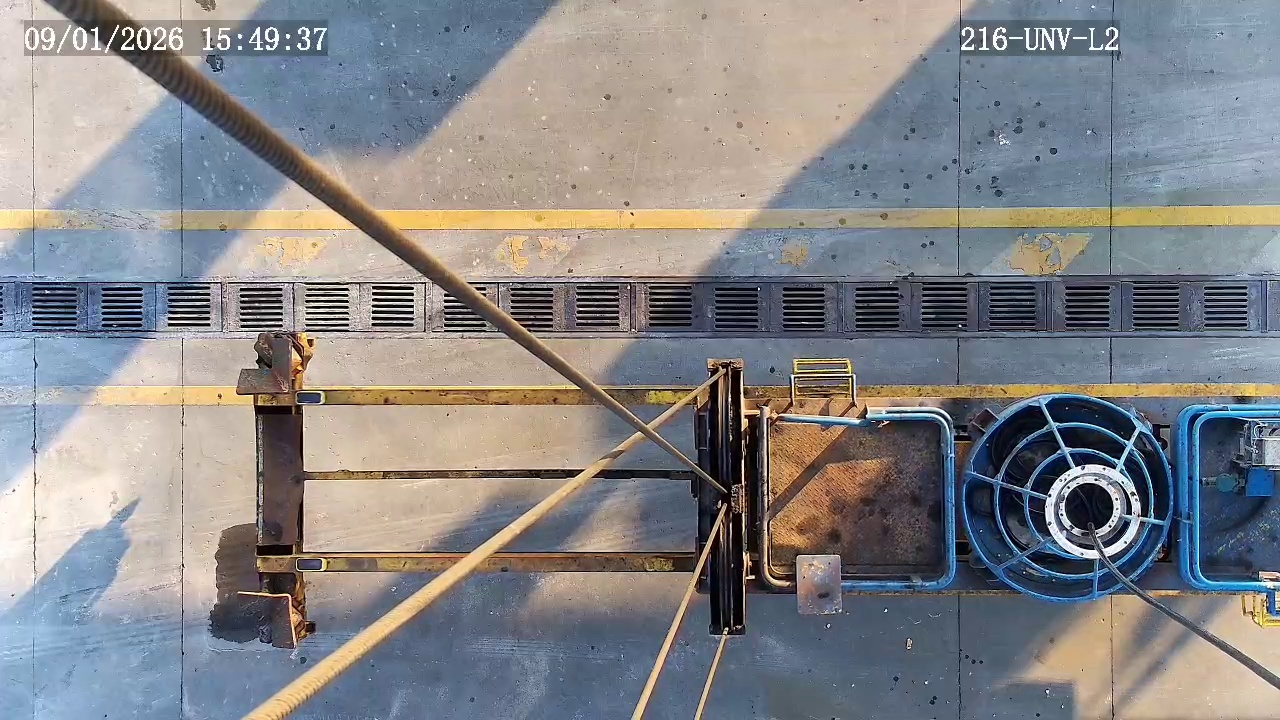left: (962, 395, 1173, 601)
